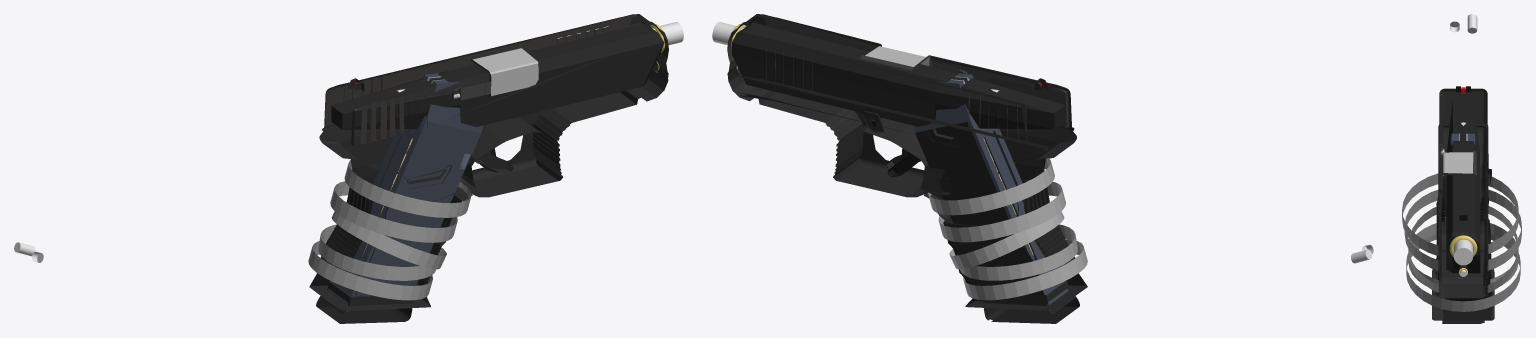
Rendered from temp_pistol_model.glb.
The picture shows the model from 3 angles, left to right: view 1: azimuth 30°, elevation 25°; view 2: azimuth 150°, elevation 25°; view 3: azimuth 270°, elevation 25°; orthographic projection. The views are drawn at different scales.
Parts seen in each view (by area): view 1: Plane.032, Plane.053, Plane.002, Cylinder.004, Plane.043, Plane.039, Plane.050, Plane.038; view 2: Plane.032, Plane.053, Cylinder.004, Plane.002, Plane.043, Plane.040; view 3: Plane.032, Cylinder.004, Plane.053, Plane.043, Plane.002, Cylinder, Plane.057, Circle.002, Plane.040, Plane.036, Circle.003.
Part boxes in pixels (box(x1,y1,x2,y2)): Plane.032: box(309, 14, 668, 310); Plane.053: box(331, 23, 664, 129); Plane.002: box(316, 73, 483, 323); Cylinder.004: box(308, 160, 471, 300); Plane.043: box(309, 94, 634, 310); Plane.039: box(360, 96, 425, 144); Plane.050: box(369, 97, 404, 140); Plane.038: box(475, 138, 513, 172); Plane.032: box(727, 14, 1087, 310); Plane.053: box(732, 23, 1065, 129); Cylinder.004: box(928, 158, 1087, 300); Plane.002: box(912, 73, 1079, 323); Plane.043: box(736, 92, 1087, 309); Plane.040: box(728, 74, 1048, 149); Plane.032: box(1432, 88, 1494, 320); Cylinder.004: box(1402, 173, 1521, 311); Plane.053: box(1446, 98, 1480, 273); Plane.043: box(1432, 131, 1493, 320); Plane.002: box(1442, 133, 1484, 323); Cylinder: box(1453, 122, 1472, 265); Plane.057: box(1449, 235, 1477, 276); Circle.002: box(1467, 14, 1477, 33); Plane.040: box(1486, 124, 1486, 262); Plane.036: box(1456, 86, 1470, 93); Circle.003: box(1450, 21, 1459, 32).
Size of the model in its own units: 8.14 by 2.84 by 1.4.
